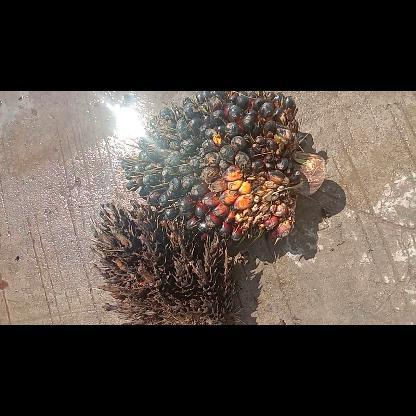Janjang kosong: (89, 202, 246, 324)
TBS mentah: (116, 90, 324, 246)
